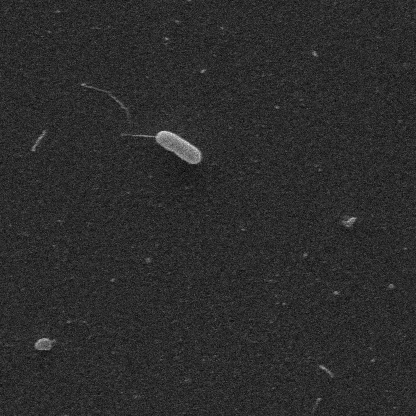cell: (157, 130, 203, 168)
nanowire: (123, 131, 164, 140)
